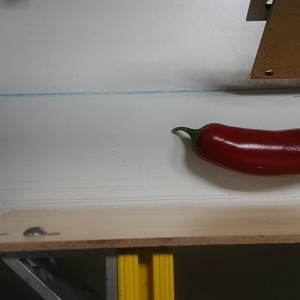Cut Point: (183, 120, 222, 156)
